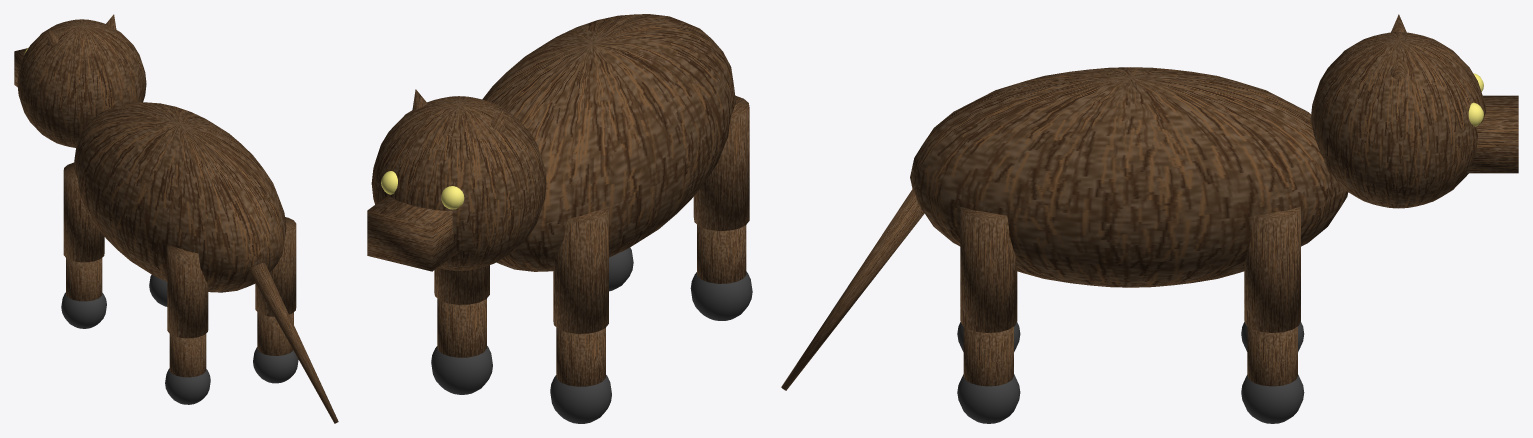
The model's file is giant-rat.glb.
3 views of the same model, side by side, from view 1: azimuth 30°, elevation 25°; view 2: azimuth 150°, elevation 25°; view 3: azimuth 270°, elevation 25° (orthographic). The views are drawn at different scales.
Parts seen in each view (by area): view 1: Body, Head, LegUpper, LegUpper.001, Tail, LegUpper.002, LegLower, LegLower.001, Paw, Paw.001, Paw.002, LegLower.002 (+1 smaller); view 2: Body, Head, LegUpper.001, Snout, LegUpper, LegLower.001, LegLower.003, LegLower, Paw.001, Paw.003, Paw, LegUpper.003 (+2 smaller); view 3: Body, Head, LegUpper.002, LegUpper.003, Tail, Snout, LegLower.002, LegLower.003, Paw.002, Paw.003.
Boxes of the visible parts, left/top/right/bottom form: Body: left=73, top=102, right=286, bottom=292; Head: left=17, top=19, right=146, bottom=147; LegUpper: left=167, top=244, right=208, bottom=338; LegUpper.001: left=63, top=162, right=104, bottom=262; Tail: left=250, top=263, right=338, bottom=423; LegUpper.002: left=255, top=217, right=296, bottom=316; LegLower: left=169, top=334, right=206, bottom=377; LegLower.001: left=66, top=258, right=102, bottom=301; Paw: left=165, top=368, right=210, bottom=404; Paw.001: left=61, top=292, right=106, bottom=328; Paw.002: left=253, top=347, right=298, bottom=383; LegLower.002: left=257, top=312, right=293, bottom=355; Body: left=482, top=14, right=735, bottom=271; Head: left=371, top=96, right=546, bottom=270; LegUpper.001: left=553, top=207, right=608, bottom=333; Snout: left=367, top=195, right=457, bottom=271; LegUpper: left=693, top=95, right=749, bottom=230; LegLower.001: left=556, top=327, right=605, bottom=386; LegLower.003: left=437, top=298, right=486, bottom=357; LegLower: left=697, top=225, right=746, bottom=283; Paw.001: left=550, top=375, right=611, bottom=423; Paw.003: left=431, top=346, right=492, bottom=394; Paw: left=690, top=271, right=752, bottom=320; LegUpper.003: left=434, top=265, right=489, bottom=304; Body: left=910, top=67, right=1348, bottom=287; Head: left=1310, top=32, right=1486, bottom=208; LegUpper.002: left=960, top=206, right=1017, bottom=332; LegUpper.003: left=1244, top=206, right=1300, bottom=332; Tail: left=781, top=189, right=924, bottom=390; Snout: left=1467, top=95, right=1518, bottom=173; LegLower.002: left=963, top=326, right=1013, bottom=386; LegLower.003: left=1247, top=326, right=1297, bottom=386; Paw.002: left=957, top=374, right=1020, bottom=423; Paw.003: left=1241, top=374, right=1304, bottom=423.
Bounding box in the file's own units: 0.5535 × 0.986 × 1.85.
3 materials, 1 textured.
